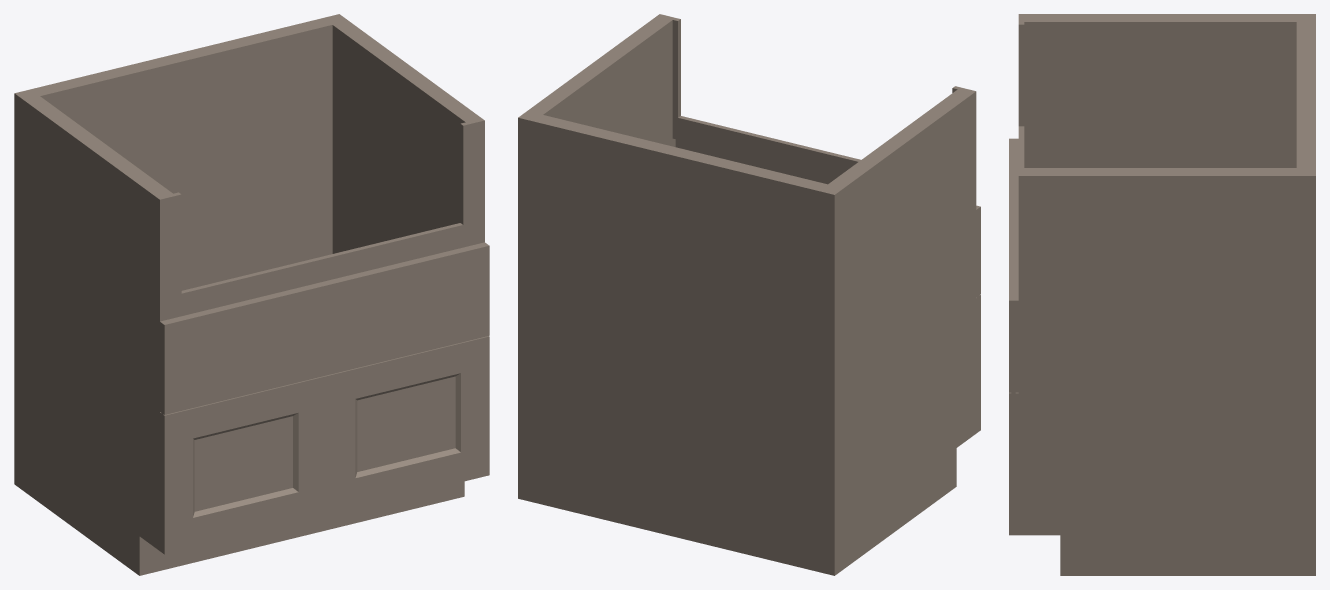
The model's file is Base-Cabinet-Farm-Sink-24-Deep.std.glb.
The picture shows the model from 3 angles, left to right: view 1: azimuth 30°, elevation 25°; view 2: azimuth 150°, elevation 25°; view 3: azimuth 270°, elevation 25°; orthographic projection. The views are drawn at different scales.
Parts seen in each view (by area): view 1: Base-Cabinet-Farm-Sink-24-Deep.std.001; view 2: Base-Cabinet-Farm-Sink-24-Deep.std.001; view 3: Base-Cabinet-Farm-Sink-24-Deep.std.001.
Part boxes in pixels (x1,y1,x2,y2): Base-Cabinet-Farm-Sink-24-Deep.std.001: (14,14,489,575); Base-Cabinet-Farm-Sink-24-Deep.std.001: (518,14,980,575); Base-Cabinet-Farm-Sink-24-Deep.std.001: (1009,14,1315,575).
Size of the model in its own units: 0.762 by 0.8763 by 0.6096.
